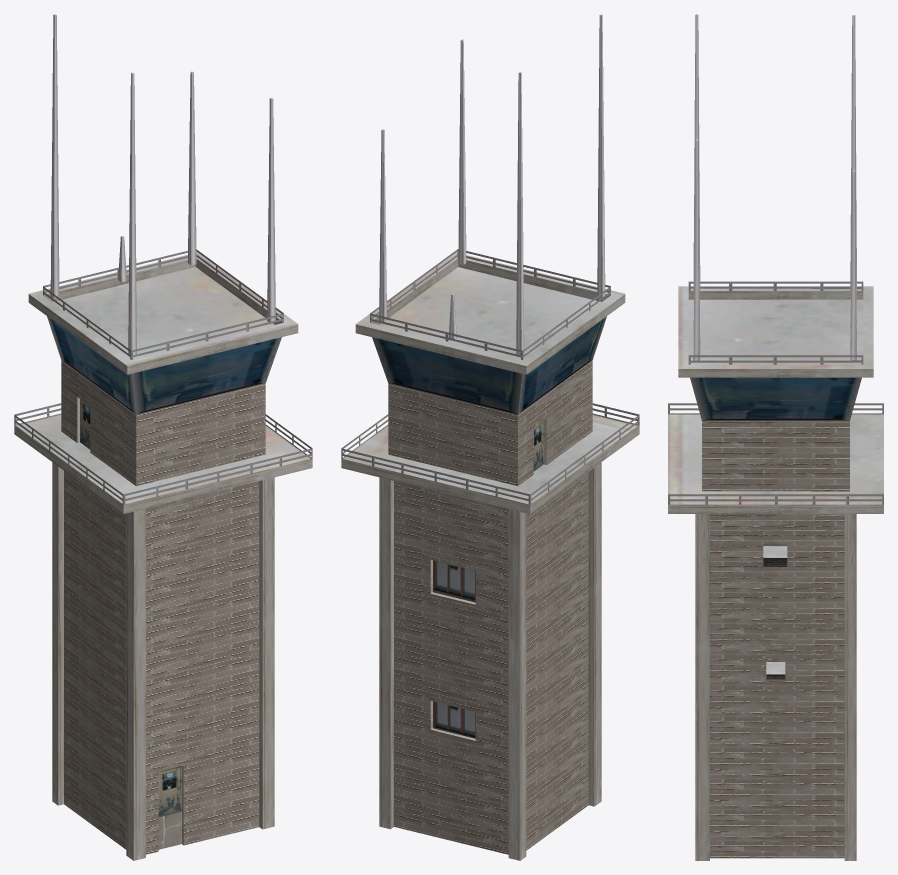
Rendered from Airtowr1.glb.
3 views of the same model, side by side, from view 1: azimuth 30°, elevation 25°; view 2: azimuth 150°, elevation 25°; view 3: azimuth 270°, elevation 25° (orthographic).
Visible parts, largest first — view 1: _Airtowr1; view 2: _Airtowr1; view 3: _Airtowr1.
Boxes of the visible parts, x1,y1,x2,y2 form: _Airtowr1: [14, 14, 312, 860]; _Airtowr1: [341, 14, 639, 860]; _Airtowr1: [668, 14, 883, 860].
Size of the model in its own units: 14.57 by 57.96 by 14.57.
Materials: 1 (1 with a texture image).
